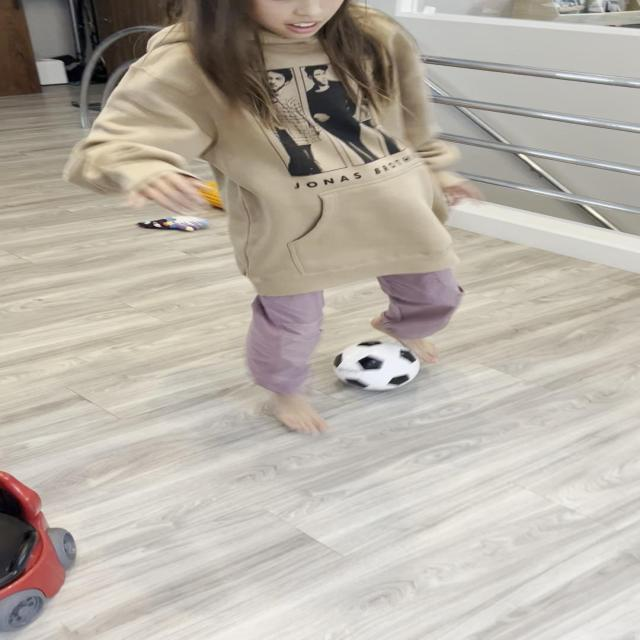Soccer Ball: (332, 340, 423, 393)
